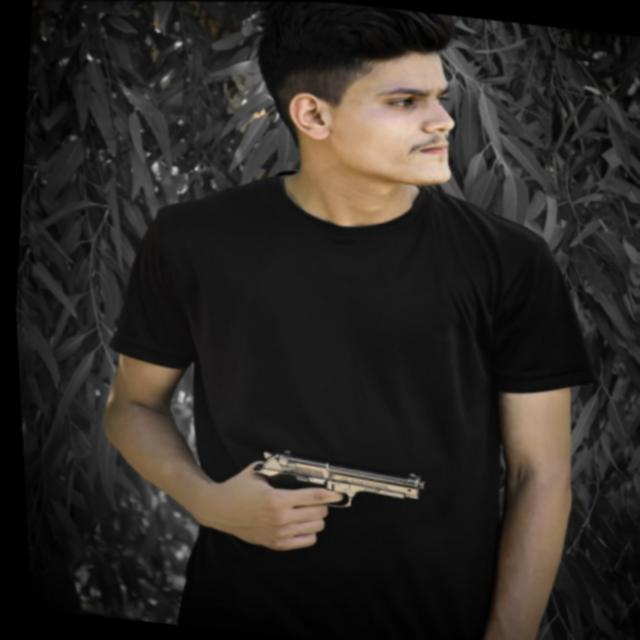weapon: (228, 439, 430, 565)
